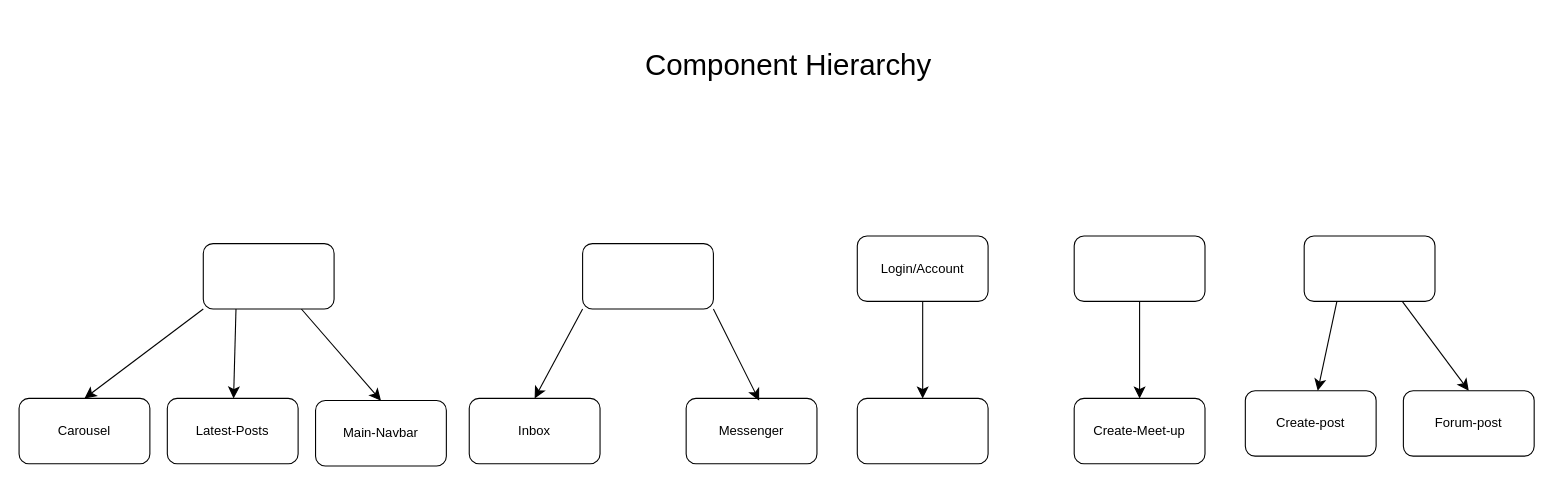
Image size: 1553x485. Some labels were removed from this diagram. The shapes that lost their labels are listed below. From the top down, each one's centre as x and y in pixels, then its label:
At (x=268, y=276): "Home".
At (x=647, y=276): "Messages".
At (x=1139, y=268): "Meet-ups".
At (x=1369, y=268): "Forums".
At (x=922, y=430): "Sign-in/sign-up".
